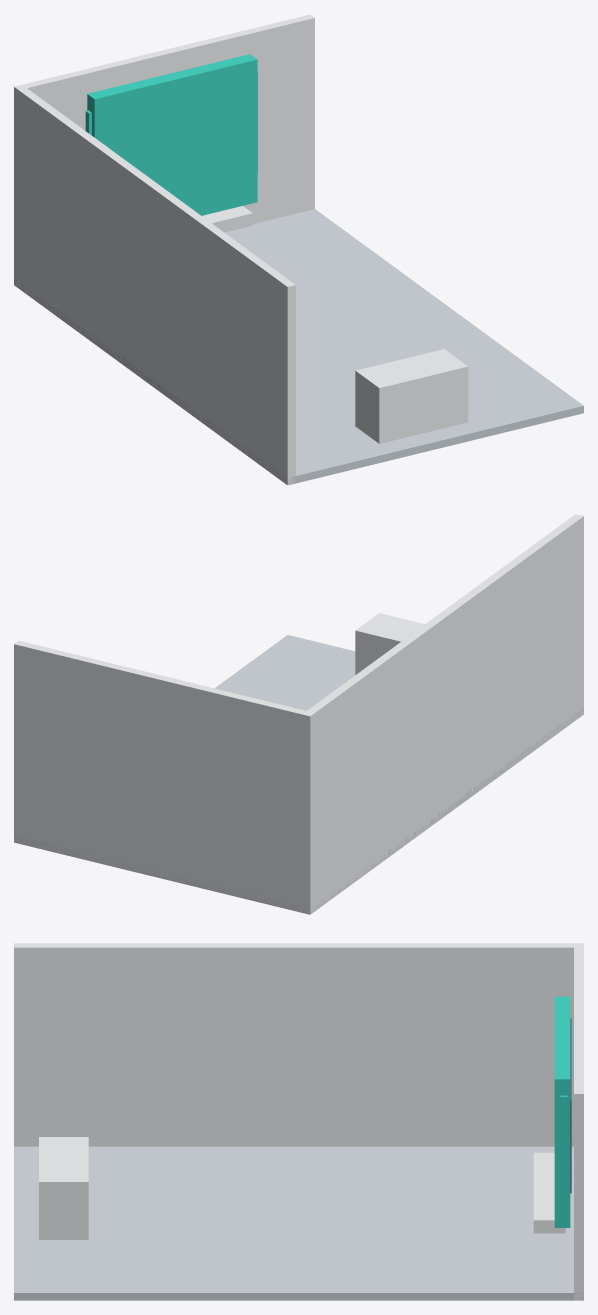
The picture shows the model from 3 angles, top to bottom: view 1: azimuth 30°, elevation 25°; view 2: azimuth 150°, elevation 25°; view 3: azimuth 270°, elevation 25°; orthographic projection. The views are drawn at different scales.
Visible parts, largest first — view 1: Exhibition Booth Concept; view 2: Exhibition Booth Concept; view 3: Exhibition Booth Concept.
Boxes of the visible parts, x1=… form: Exhibition Booth Concept: x1=14, y1=14, x2=583, y2=485; Exhibition Booth Concept: x1=14, y1=514, x2=583, y2=914; Exhibition Booth Concept: x1=14, y1=943, x2=583, y2=1300.
Size of the model in its own units: 5 by 3.2 by 8.
